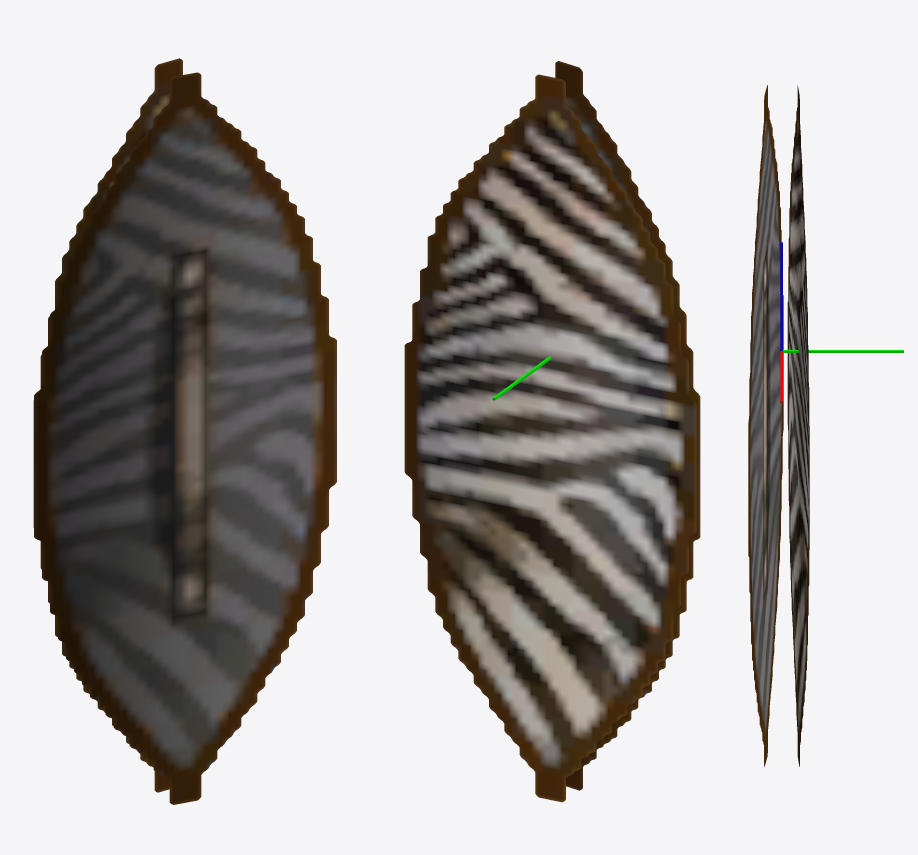
File: shield.glb
3 renders of one model, left to right at view 1: azimuth 30°, elevation 25°; view 2: azimuth 150°, elevation 25°; view 3: azimuth 270°, elevation 25°, orthographic. The views are drawn at different scales.
Visible parts, largest first — view 1: attachments a shields nubianModel; view 2: attachments a shields nubianModel; view 3: attachments a shields nubianModel, Dummy_hotspot.
Part boxes in pixels (bbox=[...]): attachments a shields nubianModel: bbox=[33, 58, 336, 804]; attachments a shields nubianModel: bbox=[404, 61, 700, 802]; attachments a shields nubianModel: bbox=[748, 85, 809, 766]; Dummy_hotspot: bbox=[780, 242, 903, 403].
Bounding box in the file's own units: 0.707 × 1.55 × 0.3262.
2 materials, 1 textured.
